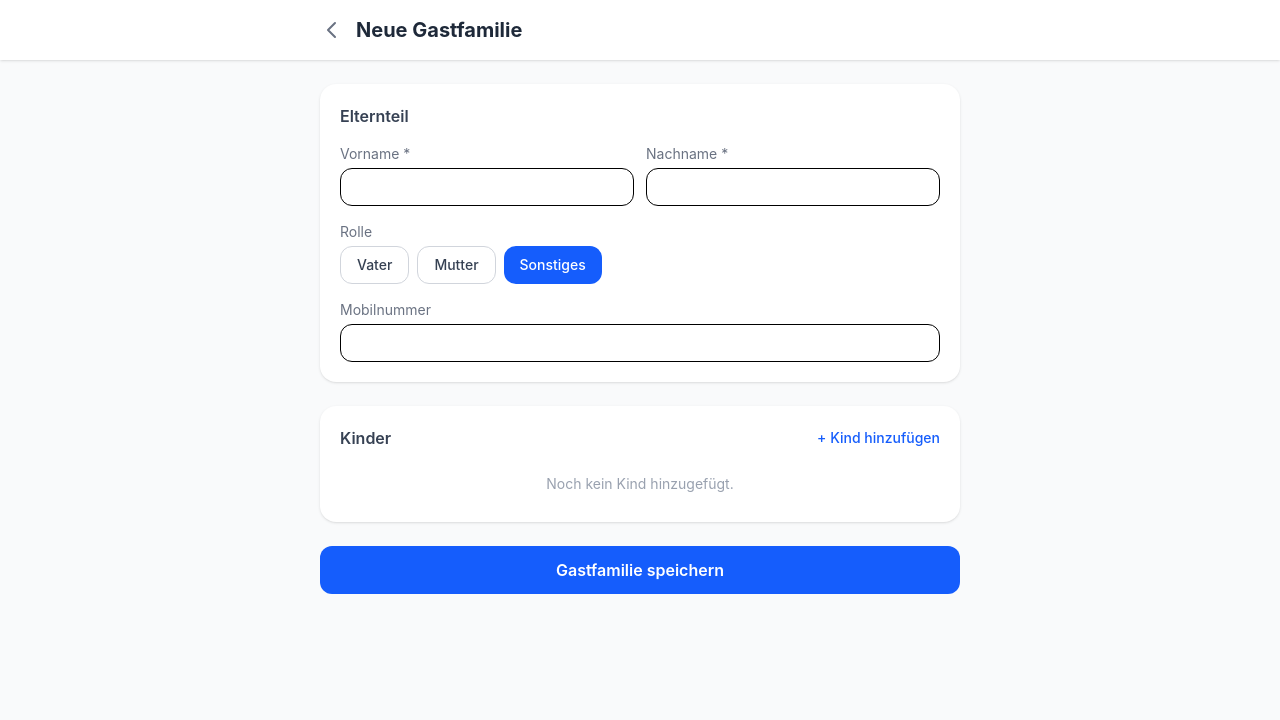
NewGuestView – validation: mobile › rejects an obviously invalid phone number
This screenshot has width=1280, height=720.
Type "Max" into the field below "Vorname *". click: (487, 187)
box: x1=340 y1=168 x2=634 y2=206
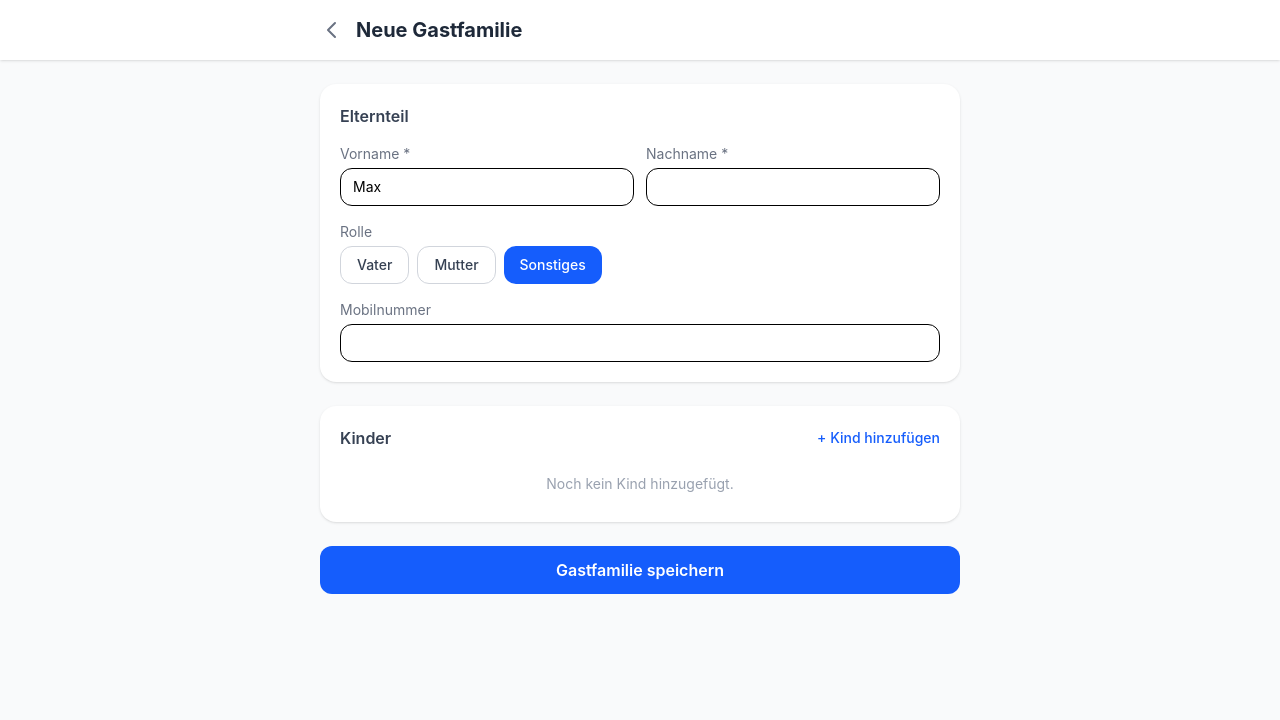
Type "Muster" into the field below "Nachname *". click: (793, 187)
box: x1=646 y1=168 x2=940 y2=206
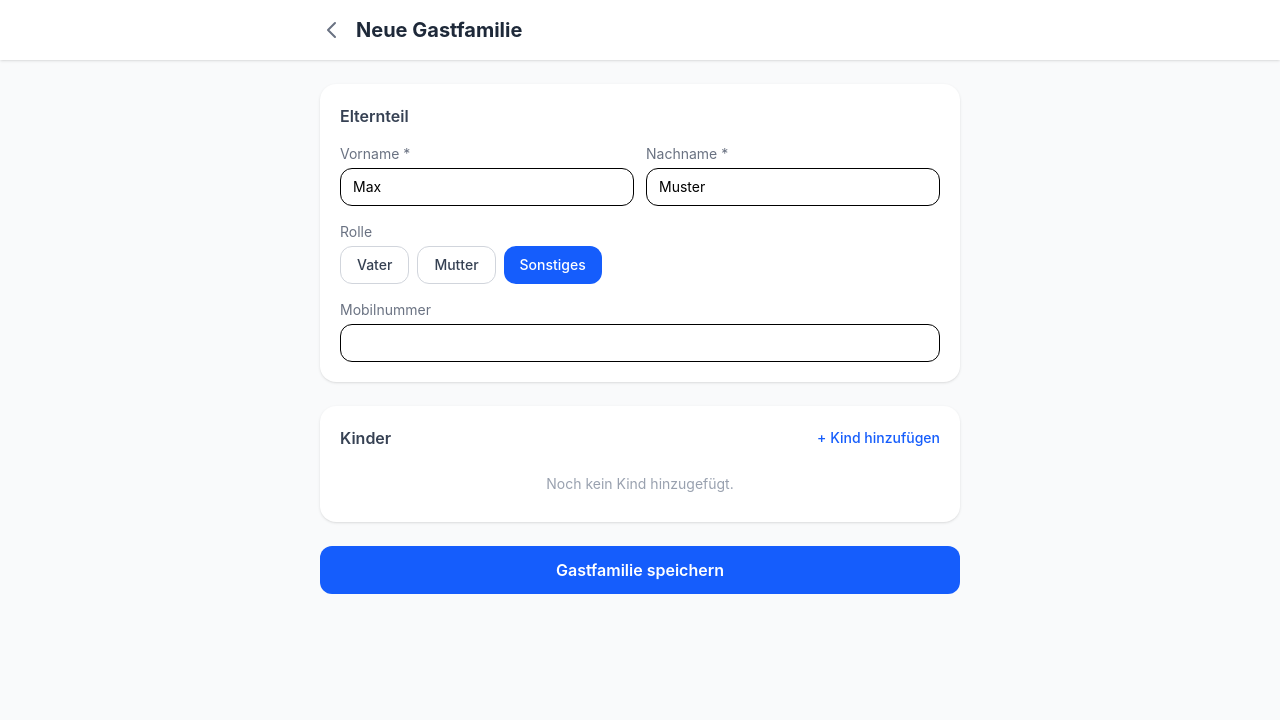
Type "abc" into the field below "Mobilnummer". click: (640, 343)
box: x1=340 y1=324 x2=940 y2=362
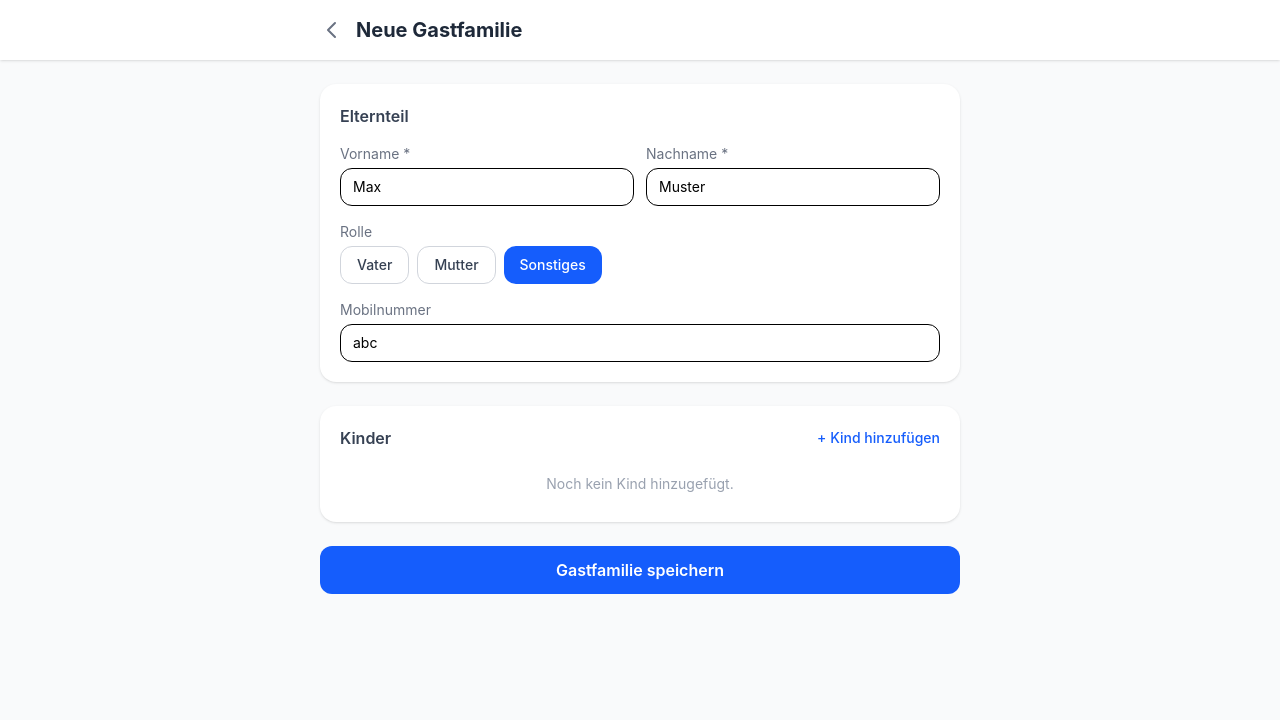
Click the button "Gastfamilie speichern". click: (640, 570)
box: x1=320 y1=546 x2=960 y2=594
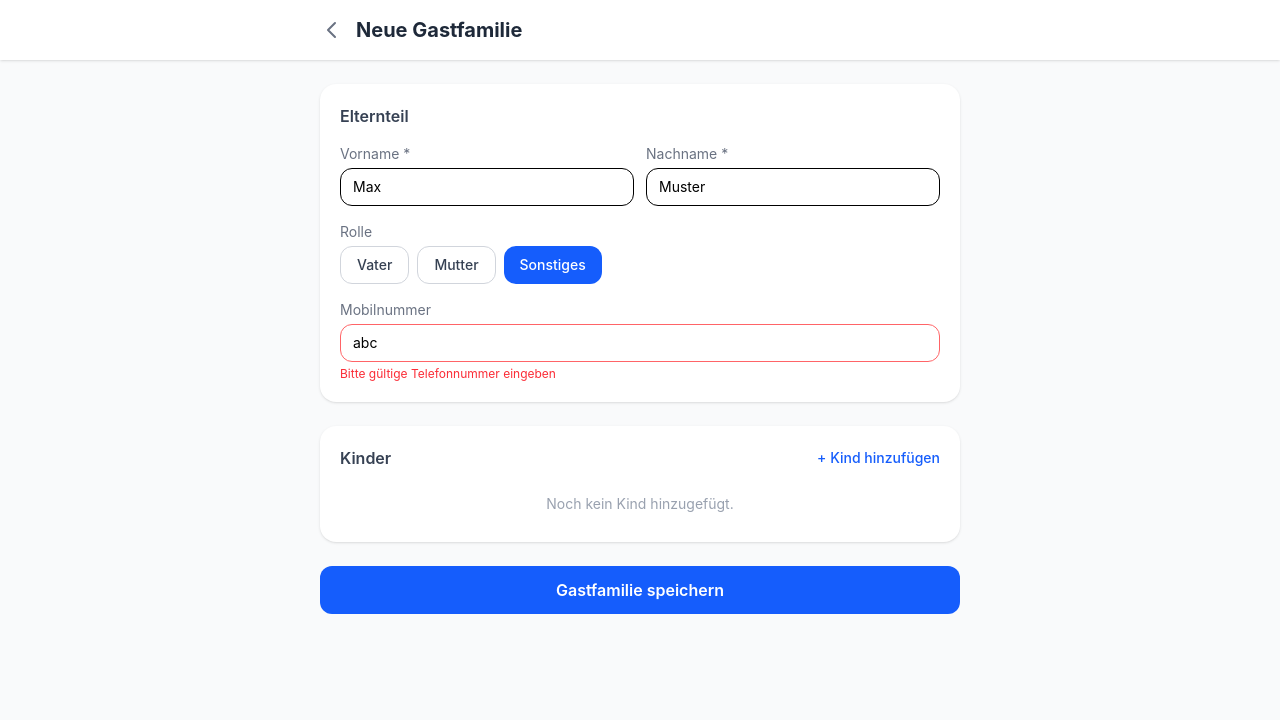
Expected: the text "Telefonnummer" is shown, x1=340 y1=366 x2=556 y2=381
